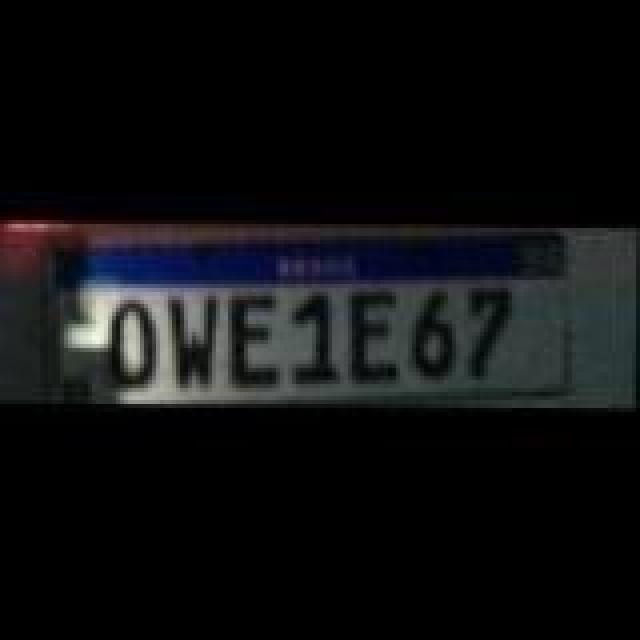1: (294, 286, 350, 390)
6: (404, 284, 456, 380)
7: (460, 284, 512, 380)
E: (234, 292, 290, 392), (348, 286, 400, 382)
Q: (166, 292, 222, 396), (110, 298, 158, 398)
